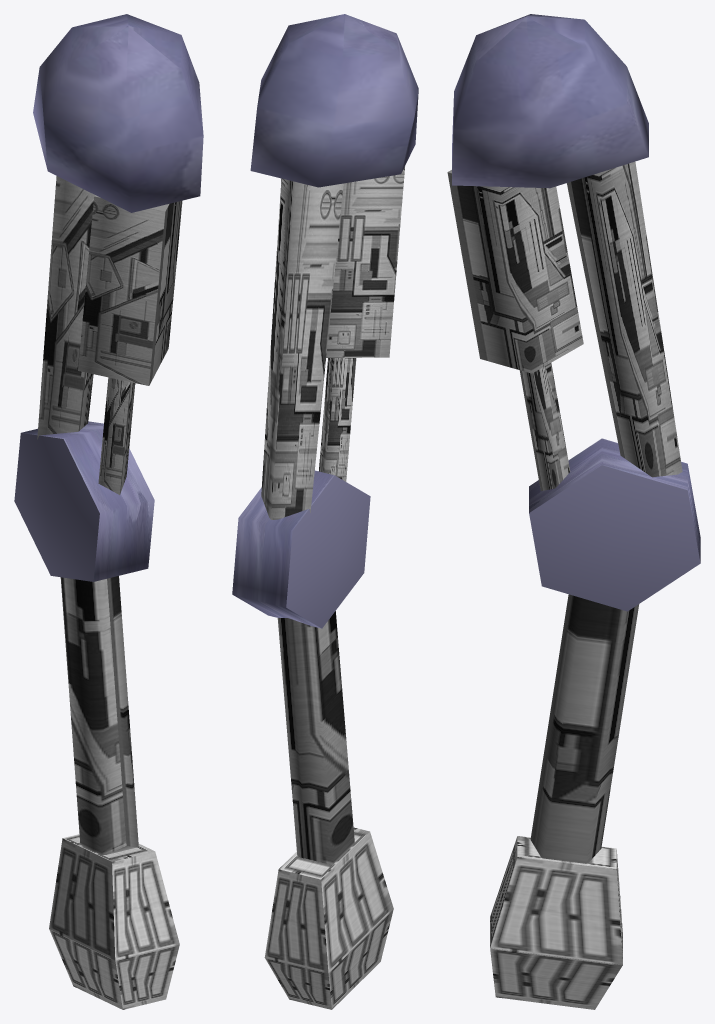
File: crew_arm.gltf
The picture shows the model from 3 angles, left to right: view 1: azimuth 30°, elevation 25°; view 2: azimuth 150°, elevation 25°; view 3: azimuth 270°, elevation 25°; orthographic projection.
Visible parts, largest first — view 1: Mesh_2, Mesh_0, Mesh_4, Mesh_1, Mesh_3; view 2: Mesh_2, Mesh_0, Mesh_4, Mesh_1, Mesh_3; view 3: Mesh_2, Mesh_0, Mesh_1, Mesh_4, Mesh_3.
Part boxes in pixels (<box>): Mesh_2: <box>37,176,182,494</box>; Mesh_0: <box>33,14,203,212</box>; Mesh_4: <box>49,834,179,1009</box>; Mesh_1: <box>14,421,154,581</box>; Mesh_3: <box>60,576,138,854</box>; Mesh_2: <box>261,166,405,519</box>; Mesh_0: <box>250,14,418,187</box>; Mesh_4: <box>264,827,393,1009</box>; Mesh_1: <box>232,470,370,628</box>; Mesh_3: <box>277,611,354,864</box>; Mesh_2: <box>447,161,682,490</box>; Mesh_0: <box>452,14,648,188</box>; Mesh_1: <box>529,438,700,611</box>; Mesh_4: <box>490,836,622,1009</box>; Mesh_3: <box>530,594,639,863</box>.
Bounding box in the file's own units: 0.1262 × 0.76 × 0.1776.
Materials: 2 (2 with a texture image).
